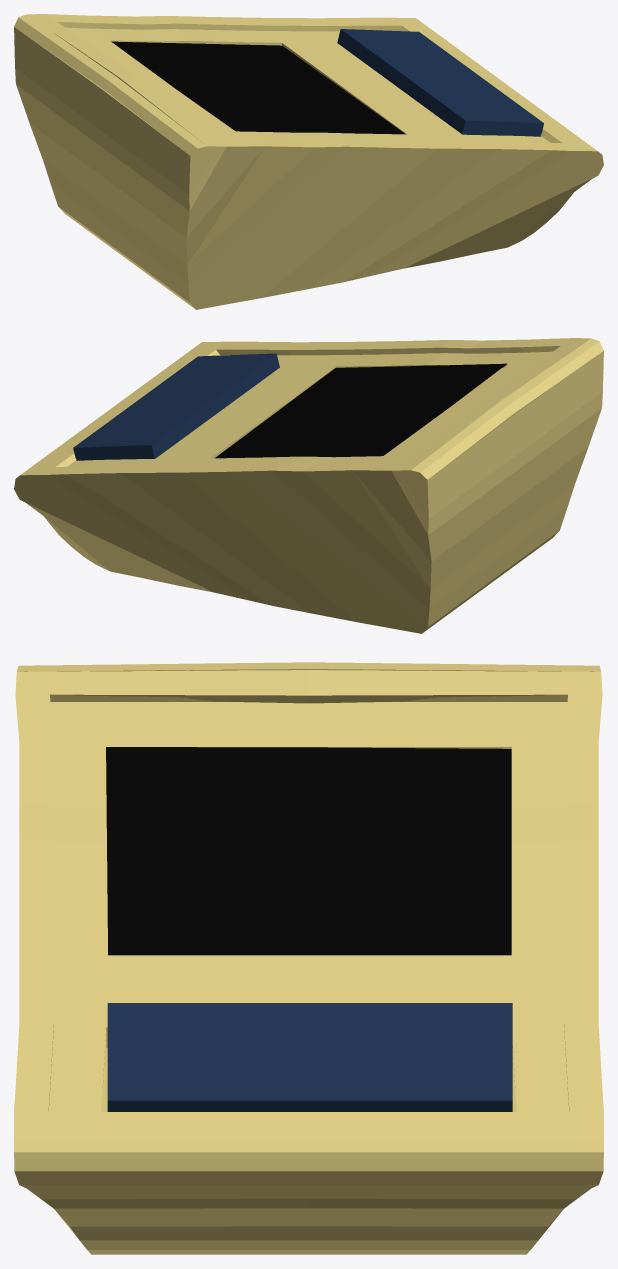
The model's file is huyetap22.glb.
3 renders of one model, top to bottom at view 1: azimuth 30°, elevation 25°; view 2: azimuth 150°, elevation 25°; view 3: azimuth 270°, elevation 25°, orthographic. The views are drawn at different scales.
Visible parts, largest first — view 1: Vert.001, Plane, Cube; view 2: Vert.001, Plane, Cube; view 3: Vert.001, Plane, Cube.
Boxes of the visible parts, box(x1,y1,x2,y2) form: Vert.001: box(14, 14, 603, 309); Plane: box(111, 41, 405, 134); Cube: box(337, 29, 543, 136); Vert.001: box(14, 338, 603, 633); Plane: box(215, 363, 506, 458); Cube: box(73, 353, 279, 460); Vert.001: box(14, 662, 603, 1254); Plane: box(106, 747, 511, 955); Cube: box(107, 1003, 512, 1111).
Bounding box in the file's own units: 4.58 × 2.13 × 3.52.
